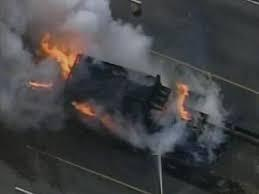fire: (31, 26, 86, 90), (70, 99, 116, 126), (168, 78, 193, 120)
